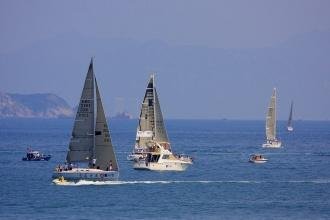fanchuan: (53, 55, 122, 183), (132, 74, 186, 156), (260, 85, 283, 148), (284, 97, 300, 132)
otherboat: (133, 151, 194, 174), (21, 144, 55, 162), (247, 152, 270, 164)
